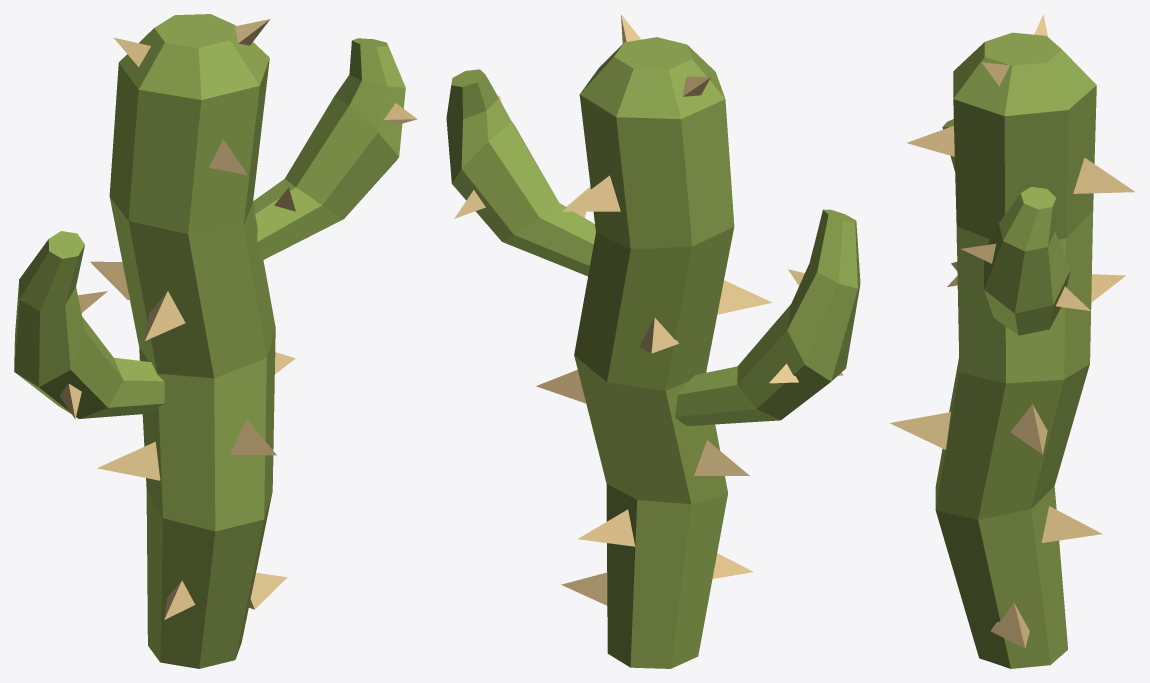
Rendered from Desert_Cactus3.fbx.
3 views of the same model, side by side, from view 1: azimuth 30°, elevation 25°; view 2: azimuth 150°, elevation 25°; view 3: azimuth 270°, elevation 25° (orthographic). The views are drawn at different scales.
Visible parts, largest first — view 1: Kaktus 1; view 2: Kaktus 1; view 3: Kaktus 1.
Boxes of the visible parts, left/top/right/bottom form: Kaktus 1: left=14, top=14, right=417, bottom=668; Kaktus 1: left=446, top=14, right=860, bottom=668; Kaktus 1: left=889, top=14, right=1134, bottom=668.
Bounding box in the file's own units: 565 × 843 × 307.
